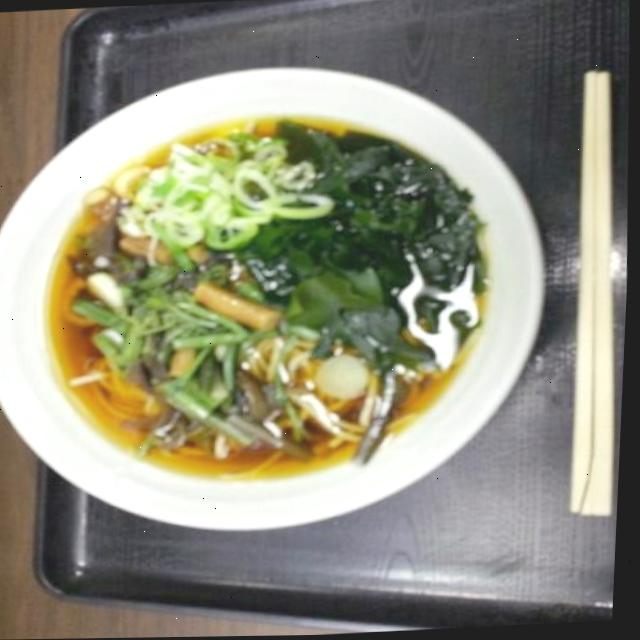面条主食: (0, 53, 558, 541)
